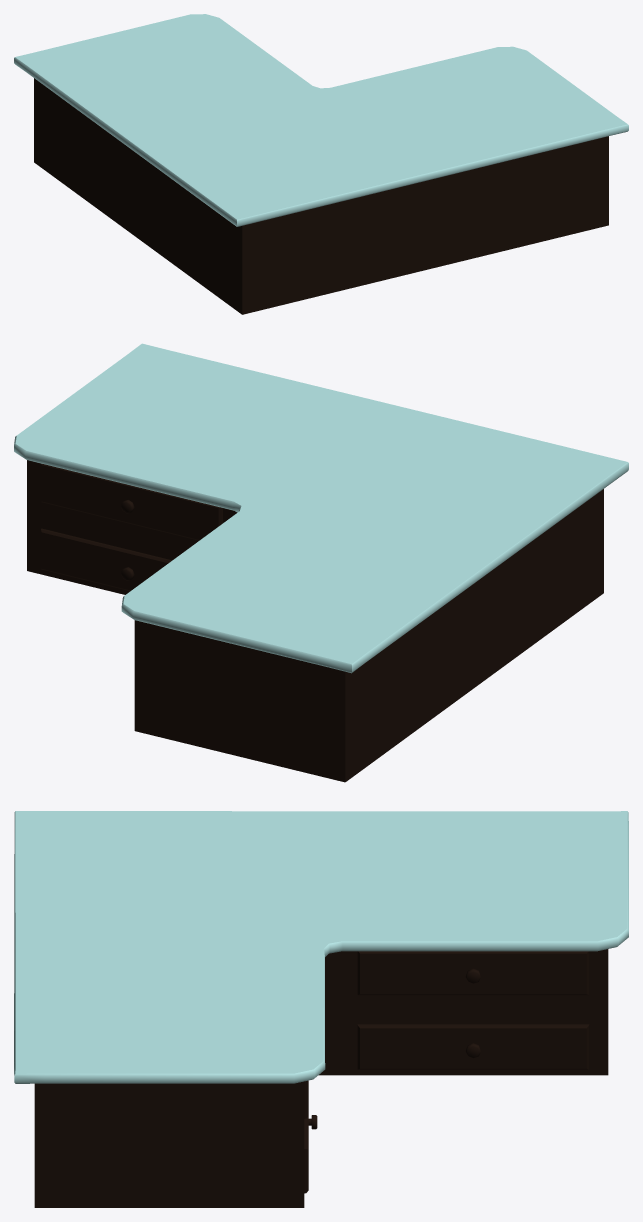
Rendered from Counter corner 1.obj.
The picture shows the model from 3 angles, top to bottom: view 1: azimuth 30°, elevation 25°; view 2: azimuth 150°, elevation 25°; view 3: azimuth 270°, elevation 25°; orthographic projection. The views are drawn at different scales.
Visible parts, largest first — view 1: Cube.005, Cube.004; view 2: Cube.005, Cube.004, Cube.007, Cube.006; view 3: Cube.005, Cube.004, Cube.003, Cube.002.
Part boxes in pixels (x1,y1,x2,y2): Cube.005: (14,14,628,226); Cube.004: (34,78,608,314); Cube.005: (14,343,628,673); Cube.004: (27,460,603,782); Cube.007: (41,463,222,540); Cube.006: (41,528,171,591); Cube.005: (14,811,628,1083); Cube.004: (34,949,608,1207); Cube.003: (357,1024,589,1069); Cube.002: (357,951,589,995).
Bounding box in the file's own units: 4.63 × 1.16 × 4.56.
